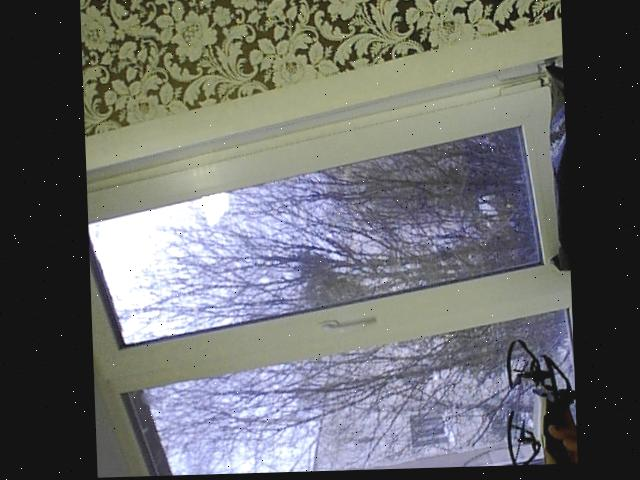drone: (500, 333, 574, 469)
